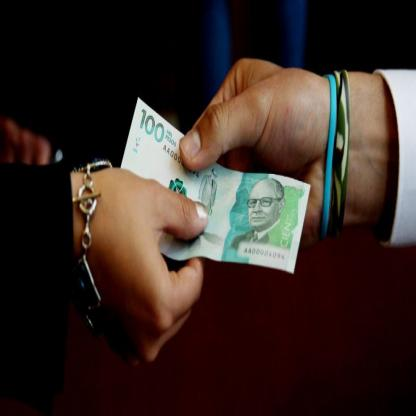billete: (119, 96, 311, 272)
